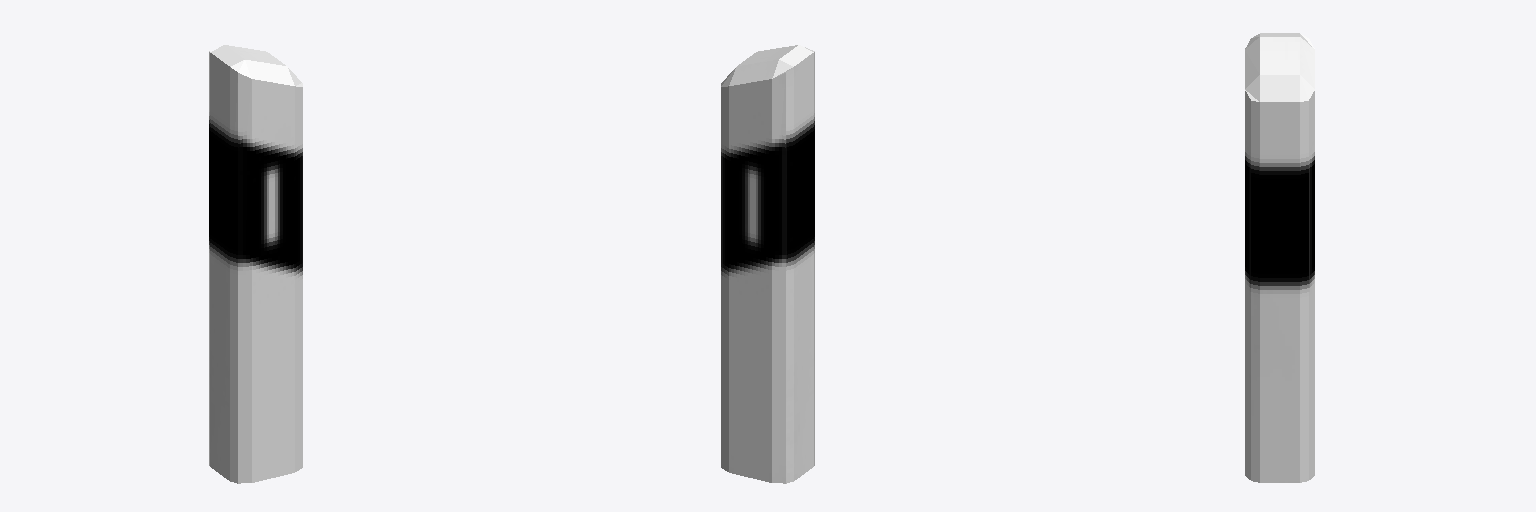
3 renders of one model, left to right at view 1: azimuth 30°, elevation 25°; view 2: azimuth 150°, elevation 25°; view 3: azimuth 270°, elevation 25°, orthographic.
Visible parts, largest first — view 1: default; view 2: default; view 3: default.
Boxes of the visible parts, x1=… form: default: x1=209, y1=45, x2=302, y2=483; default: x1=721, y1=45, x2=814, y2=483; default: x1=1245, y1=33, x2=1314, y2=482.
Size of the model in its own units: 0.2339 by 1.28 by 0.1962.
1 materials, 1 textured.